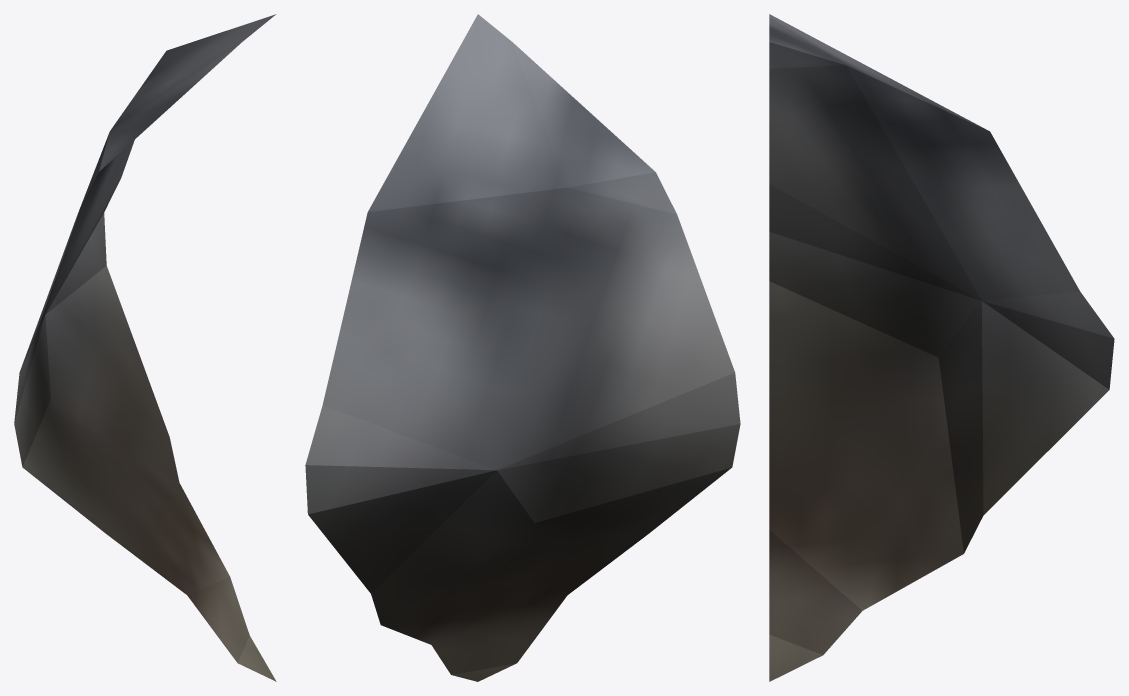
3 renders of one model, left to right at view 1: azimuth 30°, elevation 25°; view 2: azimuth 150°, elevation 25°; view 3: azimuth 270°, elevation 25°, orthographic.
Size of the model in its own units: 0.0352 by 0.0857 by 0.0401.
1 material, 1 textured.
